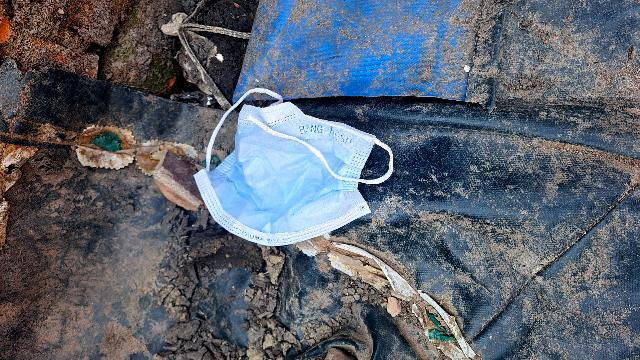mask: (174, 90, 388, 255)
